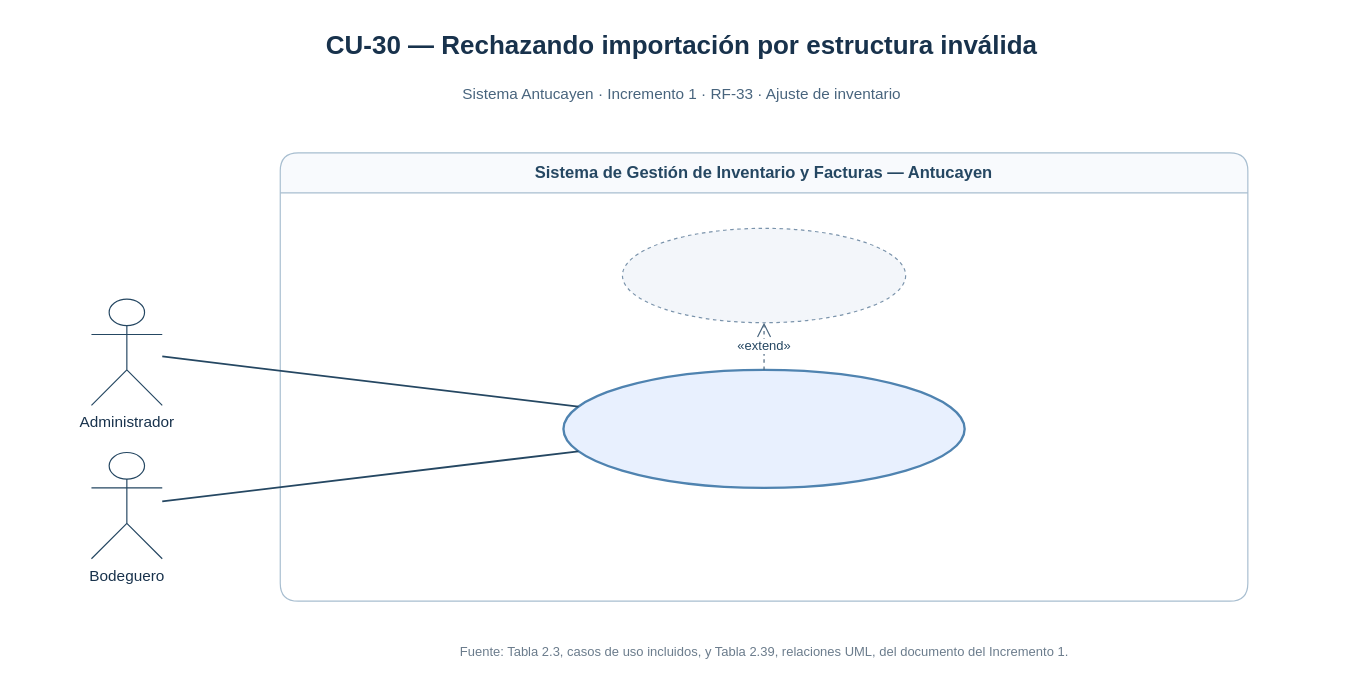
Some shapes in this 1362 by 687 pixel diagram are drawn without their labels. Each missing label, with the centre of its shape:
"CU-29 Validando columnas requeridas en importación" belongs at [763,275].
"CU-30 Rechazando importación por estructura inválida" belongs at [763,428].
